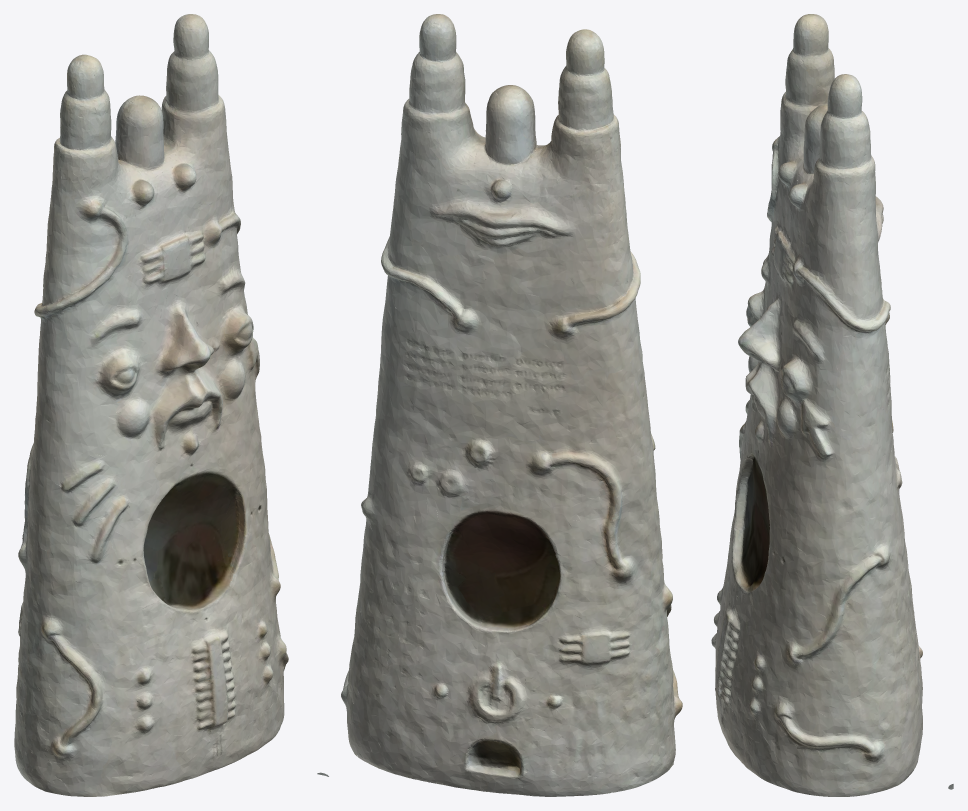
The model's file is tecnomancio.glb.
3 renders of one model, left to right at view 1: azimuth 30°, elevation 25°; view 2: azimuth 150°, elevation 25°; view 3: azimuth 270°, elevation 25°, orthographic. The views are drawn at different scales.
Size of the model in its own units: 0.5319 by 1.31 by 0.4188.
1 material, 1 textured.
